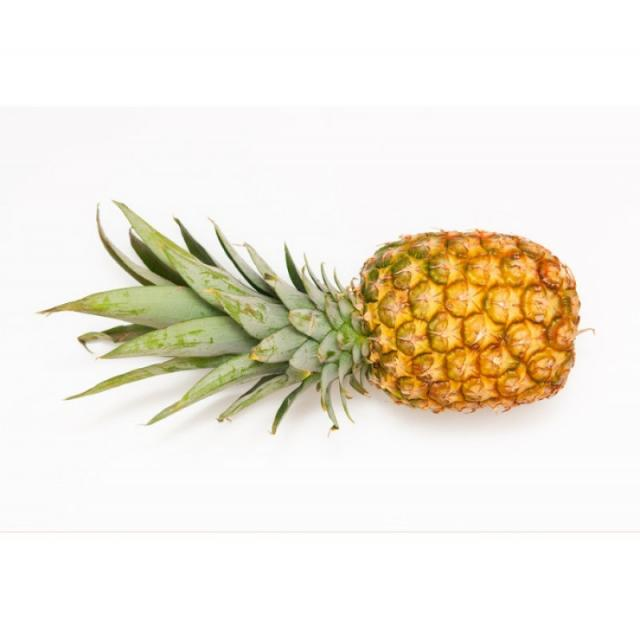pineapple: (55, 228, 583, 414)
